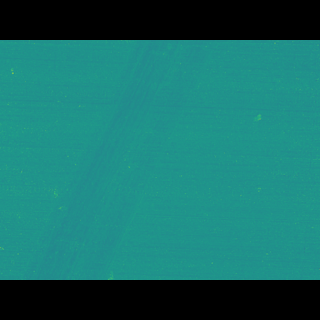Loch: (18, 69, 219, 248)
